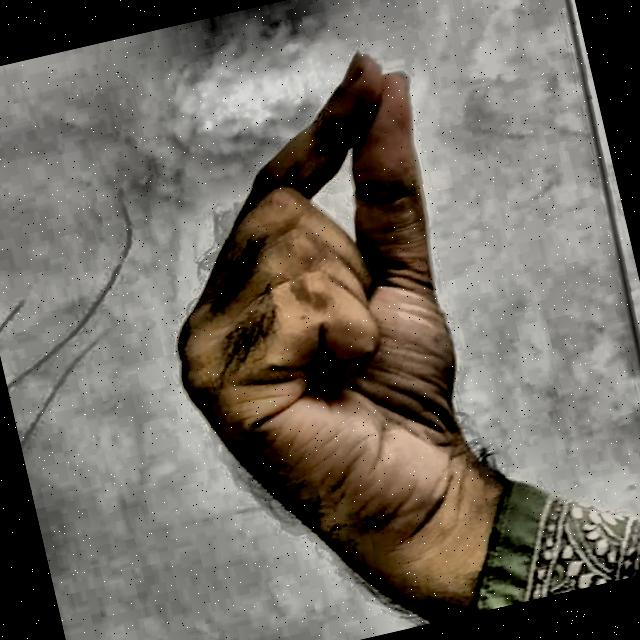Anusshar: (87, 0, 566, 619)
